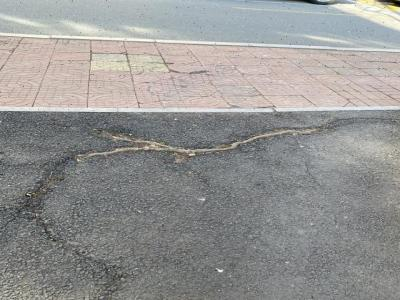Root: (77, 123, 329, 161)
